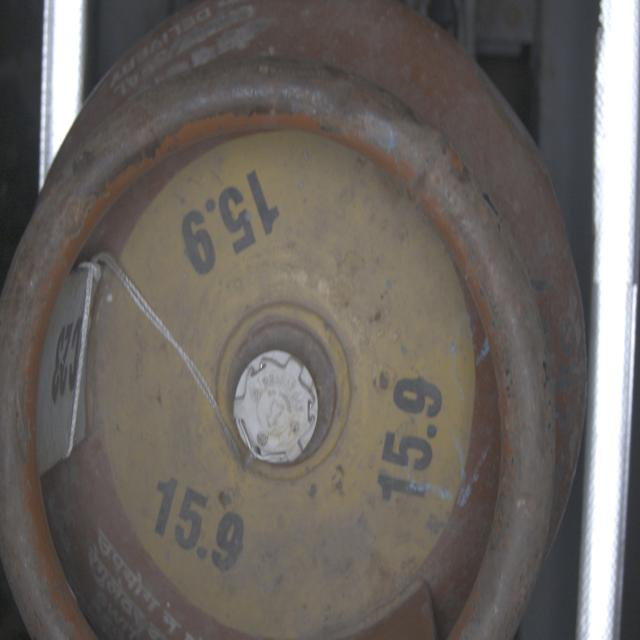Cap: (233, 344, 321, 466)
